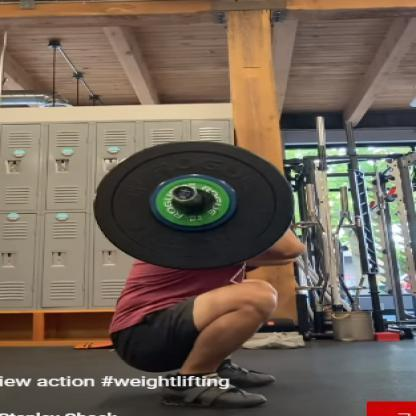barbell: (94, 140, 294, 268)
